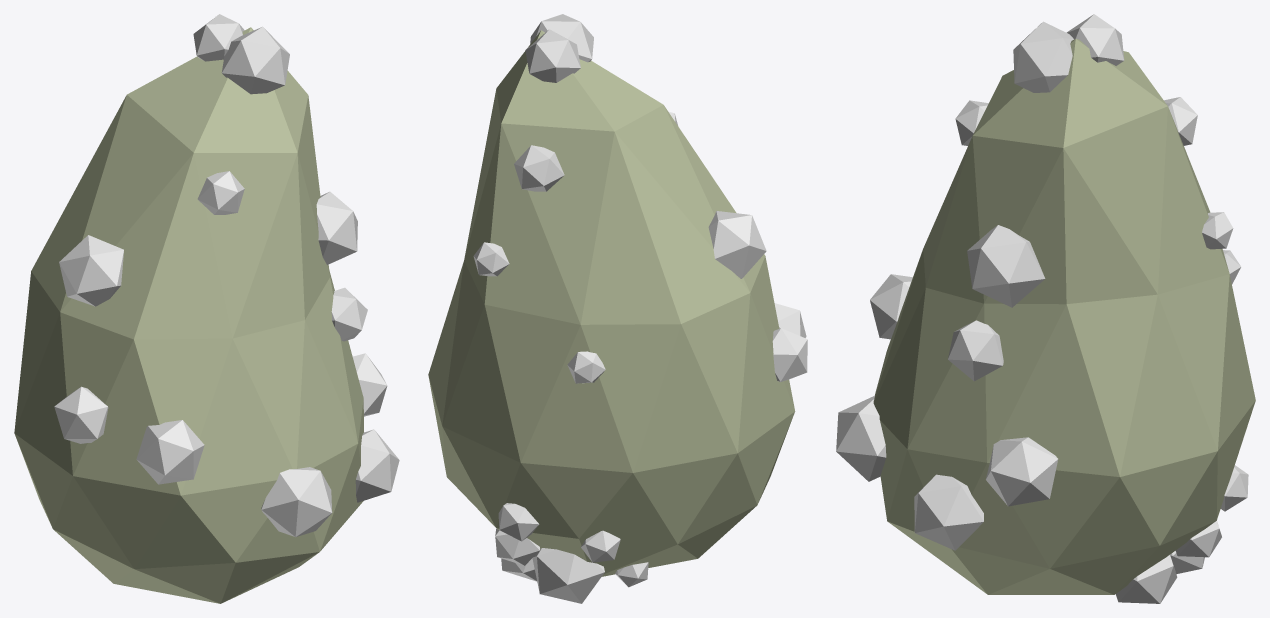
Rendered from mine1.fbx.
3 renders of one model, left to right at view 1: azimuth 30°, elevation 25°; view 2: azimuth 150°, elevation 25°; view 3: azimuth 270°, elevation 25°, orthographic. The views are drawn at different scales.
Visible parts, largest first — view 1: Mine; view 2: Mine; view 3: Mine.
Part boxes in pixels (x1=…): Mine: x1=14, y1=14, x2=399, y2=603; Mine: x1=428, y1=14, x2=807, y2=603; Mine: x1=836, y1=14, x2=1255, y2=603.
Size of the model in its own units: 1.39 by 2.13 by 1.39.
